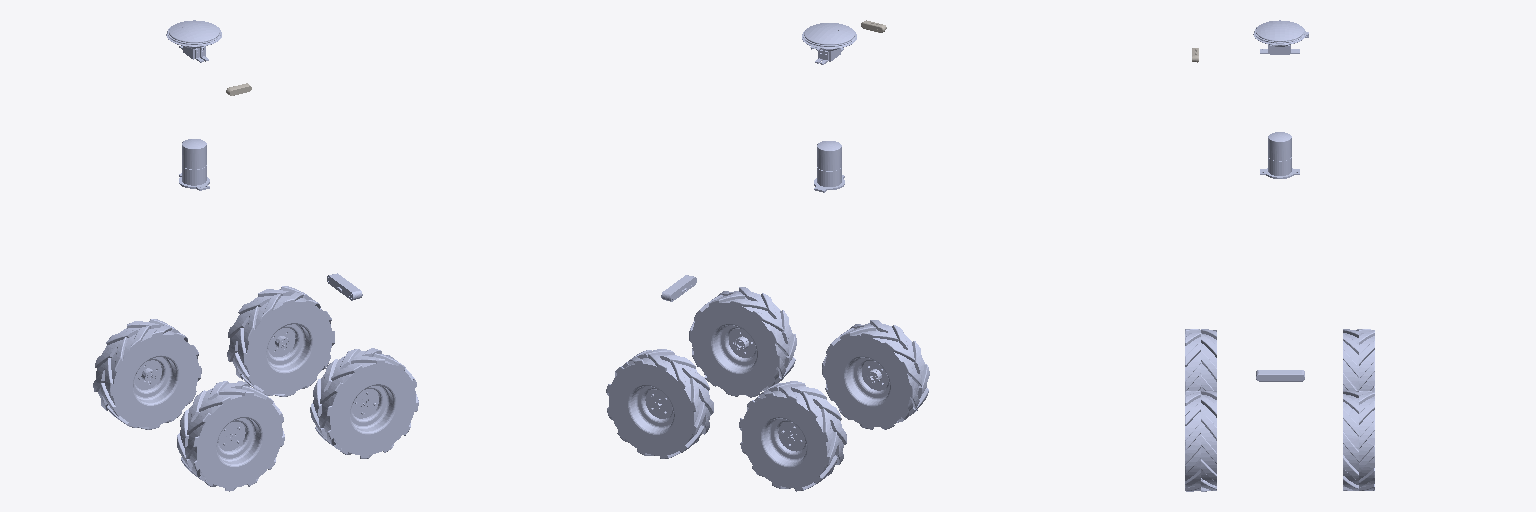
URDF robot description (smartagurdf):
<?xml version="1.0" encoding="utf-8"?>
<!-- This URDF was automatically created by SolidWorks to URDF Exporter! Originally created by [author] ([email redacted]) 
     Commit Version: 1.6.0-4-g7f85cfe  Build Version: 1.6.7995.38578
     For more information, please see http://wiki.ros.org/sw_urdf_exporter -->
<robot
  name="smartagurdf">
  <link
    name="base_link">
    <inertial>
      <origin
        xyz="-0.0356837100936477 0.0222049108481528 0.555812785333456"
        rpy="0 0 0" />
      <mass
        value="14.2103783799551" />
      <inertia
        ixx="0.261483369289071"
        ixy="1.14660712103473E-07"
        ixz="0.00512888335437374"
        iyy="0.288497708920354"
        iyz="1.72257532508572E-06"
        izz="0.359876839369096" />
    </inertial>
    <visual>
      <origin
        xyz="0 0 0"
        rpy="0 0 0" />
      <geometry>
        <mesh
          filename="package://smartagurdf/meshes/base_link.STL" />
      </geometry>
      <material
        name="">
        <color
          rgba="0.101960784313725 0.101960784313725 0.101960784313725 1" />
      </material>
    </visual>
    <collision>
      <origin
        xyz="0 0 0"
        rpy="0 0 0" />
      <geometry>
        <mesh
          filename="package://smartagurdf/meshes/base_link.STL" />
      </geometry>
    </collision>
  </link>
  <link
    name="front_left_wheel_link">
    <inertial>
      <origin
        xyz="-0.286975486815589 -0.259891630565297 0.517241791350882"
        rpy="0 0 0" />
      <mass
        value="14.6529746668918" />
      <inertia
        ixx="2.22361757810627"
        ixy="-0.0642636108120311"
        ixz="0.565870988267871"
        iyy="2.40058188155518"
        iyz="0.0497880957458498"
        izz="0.928157181250363" />
    </inertial>
    <visual>
      <origin
        xyz="0 0 0"
        rpy="0 0 0" />
      <geometry>
        <mesh
          filename="package://smartagurdf/meshes/front_left_wheel_link.STL" />
          <cylinder length="0.1143" radius="0.1651" />
      </geometry>
      <material
        name="">
        <color
          rgba="0.792156862745098 0.819607843137255 0.933333333333333 1" />
      </material>
    </visual>
    <collision>
      <origin
        xyz="0 0 0"
        rpy="0 0 0" />
      <geometry>
        <mesh
          filename="package://smartagurdf/meshes/front_left_wheel_link.STL" />
      </geometry>
    </collision>
  </link>
  <joint
    name="front_left_wheel"
    type="continuous">
    <origin
      xyz="0.256 0.28547 0.036"
      rpy="0 0 0" />
    <parent
      link="base_link" />
    <child
      link="front_left_wheel_link" />
    <axis
      xyz="0 1 0" />
    <limit
      lower="0"
      upper="0"
      effort="1000"
      velocity="10" />
  </joint>
  <link
    name="front_right_wheel_link">
    <inertial>
      <origin
        xyz="-0.286975486815589 0.311057619434703 0.517241791350882"
        rpy="0 0 0" />
      <mass
        value="14.6529746668918" />
      <inertia
        ixx="2.22361757810627"
        ixy="-0.0642636108120311"
        ixz="0.565870988267871"
        iyy="2.40058188155518"
        iyz="0.0497880957458499"
        izz="0.928157181250363" />
    </inertial>
    <visual>
      <origin
        xyz="0 0 0"
        rpy="0 0 0" />
      <geometry>
        <mesh
          filename="package://smartagurdf/meshes/front_right_wheel_link.STL" />
      </geometry>
      <material
        name="">
        <color
          rgba="0.792156862745098 0.819607843137255 0.933333333333333 1" />
      </material>
    </visual>
    <collision>
      <origin
        xyz="0 0 0"
        rpy="0 0 0" />
      <geometry>
        <mesh
          filename="package://smartagurdf/meshes/front_right_wheel_link.STL" />
      </geometry>
    </collision>
  </link>
  <joint
    name="front_right_wheel"
    type="continuous">
    <origin
      xyz="0.256 -0.28548 0.036"
      rpy="0 0 0" />
    <parent
      link="base_link" />
    <child
      link="front_right_wheel_link" />
    <axis
      xyz="0 1 0" />
    <limit
      lower="0"
      upper="0"
      effort="1000"
      velocity="10" />
  </joint>
  <link
    name="rear_right_wheel_link">
    <inertial>
      <origin
        xyz="0.225024513184411 0.311057619434703 0.517241791350882"
        rpy="0 0 0" />
      <mass
        value="14.6529746668918" />
      <inertia
        ixx="2.22361757810627"
        ixy="-0.0642636108120311"
        ixz="0.565870988267871"
        iyy="2.40058188155518"
        iyz="0.0497880957458498"
        izz="0.928157181250363" />
    </inertial>
    <visual>
      <origin
        xyz="0 0 0"
        rpy="0 0 0" />
      <geometry>
        <mesh
          filename="package://smartagurdf/meshes/rear_right_wheel_link.STL" />
      </geometry>
      <material
        name="">
        <color
          rgba="0.792156862745098 0.819607843137255 0.933333333333333 1" />
      </material>
    </visual>
    <collision>
      <origin
        xyz="0 0 0"
        rpy="0 0 0" />
      <geometry>
        <mesh
          filename="package://smartagurdf/meshes/rear_right_wheel_link.STL" />
      </geometry>
    </collision>
  </link>
  <joint
    name="rear_right_wheel"
    type="continuous">
    <origin
      xyz="-0.256 -0.28548 0.036"
      rpy="0 0 0" />
    <parent
      link="base_link" />
    <child
      link="rear_right_wheel_link" />
    <axis
      xyz="0 1 0" />
    <limit
      lower="0"
      upper="0"
      effort="1000"
      velocity="10" />
  </joint>
  <link
    name="rear_left_wheel_link">
    <inertial>
      <origin
        xyz="0.225024513184411 -0.259891630565297 0.517241791350882"
        rpy="0 0 0" />
      <mass
        value="14.6529746668918" />
      <inertia
        ixx="2.22361757810627"
        ixy="-0.0642636108120311"
        ixz="0.565870988267871"
        iyy="2.40058188155518"
        iyz="0.0497880957458499"
        izz="0.928157181250363" />
    </inertial>
    <visual>
      <origin
        xyz="0 0 0"
        rpy="0 0 0" />
      <geometry>
        <mesh
          filename="package://smartagurdf/meshes/rear_left_wheel_link.STL" />
      </geometry>
      <material
        name="">
        <color
          rgba="0.792156862745098 0.819607843137255 0.933333333333333 1" />
      </material>
    </visual>
    <collision>
      <origin
        xyz="0 0 0"
        rpy="0 0 0" />
      <geometry>
        <mesh
          filename="package://smartagurdf/meshes/rear_left_wheel_link.STL" />
      </geometry>
    </collision>
  </link>
  <joint
    name="rear_left_wheel"
    type="continuous">
    <origin
      xyz="-0.256 0.28547 0.036"
      rpy="0 0 0" />
    <parent
      link="base_link" />
    <child
      link="rear_left_wheel_link" />
    <axis
      xyz="0 1 0" />
    <limit
      lower="0"
      upper="0"
      effort="1000"
      velocity="10" />
  </joint>
  <link
    name="zed_link">
    <inertial>
      <origin
        xyz="0.00456159896851871 9.12690621725221E-07 0.01494133462499"
        rpy="0 0 0" />
      <mass
        value="0.167694642835059" />
      <inertia
        ixx="0.000382830412066939"
        ixy="3.28189191039499E-09"
        ixz="-6.45241842886214E-08"
        iyy="3.24806894733886E-05"
        iyz="1.3857903167337E-09"
        izz="0.000390523047546263" />
    </inertial>
    <visual>
      <origin
        xyz="0 0 0"
        rpy="0 0 0" />
      <geometry>
        <mesh
          filename="package://smartagurdf/meshes/zed_link.STL" />
      </geometry>
      <material
        name="">
        <color
          rgba="0.792156862745098 0.819607843137255 0.933333333333333 1" />
      </material>
    </visual>
    <collision>
      <origin
        xyz="0 0 0"
        rpy="0 0 0" />
      <geometry>
        <mesh
          filename="package://smartagurdf/meshes/zed_link.STL" />
      </geometry>
    </collision>
  </link>
  <joint
    name="zed_joint"
    type="fixed">
    <origin
      xyz="0.33638 0.002 0.314"
      rpy="0 0 0" />
    <parent
      link="base_link" />
    <child
      link="zed_link" />
    <axis
      xyz="0 0 0" />
  </joint>
  <link
    name="lidar_link">
    <inertial>
      <origin
        xyz="5.89805981832114E-16 3.2612801348364E-16 -0.0330286093572053"
        rpy="0 0 0" />
      <mass
        value="0.786253823219787" />
      <inertia
        ixx="0.00151021720928138"
        ixy="1.01041962373767E-20"
        ixz="5.76279958654395E-19"
        iyy="0.00147697392396542"
        iyz="3.00989440945545E-19"
        izz="0.000720422174010713" />
    </inertial>
    <visual>
      <origin
        xyz="0 0 0"
        rpy="0 0 0" />
      <geometry>
        <mesh
          filename="package://smartagurdf/meshes/lidar_link.STL" />
      </geometry>
      <material
        name="">
        <color
          rgba="0.792156862745098 0.819607843137255 0.933333333333333 1" />
      </material>
    </visual>
    <collision>
      <origin
        xyz="0 0 0"
        rpy="0 0 0" />
      <geometry>
        <mesh
          filename="package://smartagurdf/meshes/lidar_link.STL" />
      </geometry>
    </collision>
  </link>
  <joint
    name="lidar_joint"
    type="fixed">
    <origin
      xyz="-0.2365 0 0.95016"
      rpy="0 0 0" />
    <parent
      link="base_link" />
    <child
      link="lidar_link" />
    <axis
      xyz="0 0 0" />
  </joint>
  <link
    name="realsense_link">
    <inertial>
      <origin
        xyz="0.00152014055144201 -3.9057648565724E-07 0.010451758070197"
        rpy="0 0 0" />
      <mass
        value="0.0482013986778756" />
      <inertia
        ixx="2.73914552639321E-05"
        ixy="-4.25989861960233E-07"
        ixz="7.54924661317732E-09"
        iyy="3.35061188385816E-06"
        iyz="2.11610683923973E-09"
        izz="2.66521455070172E-05" />
    </inertial>
    <visual>
      <origin
        xyz="0 0 0"
        rpy="0 0 0" />
      <geometry>
        <mesh
          filename="package://smartagurdf/meshes/realsense_link.STL" />
      </geometry>
      <material
        name="">
        <color
          rgba="0.776470588235294 0.756862745098039 0.737254901960784 1" />
      </material>
    </visual>
    <collision>
      <origin
        xyz="0 0 0"
        rpy="0 0 0" />
      <geometry>
        <mesh
          filename="package://smartagurdf/meshes/realsense_link.STL" />
      </geometry>
    </collision>
  </link>
  <joint
    name="realsense_joint"
    type="fixed">
    <origin
      xyz="-0.23621 -0.29546 1.2957"
      rpy="0 0 -1.5708" />
    <parent
      link="base_link" />
    <child
      link="realsense_link" />
    <axis
      xyz="0 0 0" />
  </joint>
  <link
    name="gps_antenna_link">
    <inertial>
      <origin
        xyz="4.97017328424457E-06 0.000210055548435083 -0.00458781110719353"
        rpy="0 0 0" />
      <mass
        value="1.02990079135601" />
      <inertia
        ixx="0.00161521332509735"
        ixy="1.58573213761098E-08"
        ixz="-7.30355818025241E-09"
        iyy="0.00157973941386838"
        iyz="2.70465167932831E-06"
        izz="0.00284354572566057" />
    </inertial>
    <visual>
      <origin
        xyz="0 0 0"
        rpy="0 0 0" />
      <geometry>
        <mesh
          filename="package://smartagurdf/meshes/gps_antenna_link.STL" />
      </geometry>
      <material
        name="">
        <color
          rgba="0.792156862745098 0.819607843137255 0.933333333333333 1" />
      </material>
    </visual>
    <collision>
      <origin
        xyz="0 0 0"
        rpy="0 0 0" />
      <geometry>
        <mesh
          filename="package://smartagurdf/meshes/gps_antenna_link.STL" />
      </geometry>
    </collision>
  </link>
  <joint
    name="gps_antenna_joint"
    type="fixed">
    <origin
      xyz="-0.23658 -0.0006 1.3862"
      rpy="0 0 0" />
    <parent
      link="base_link" />
    <child
      link="gps_antenna_link" />
    <axis
      xyz="0 0 0" />
  </joint>
</robot>

--- Facts derived from the render (not from the file) ---
Views: 3 orthographic renders of the robot side by side, from view 1: azimuth 30°, elevation 25°; view 2: azimuth 150°, elevation 25°; view 3: azimuth 270°, elevation 25°.
Model smartagurdf with 9 links and 8 joints (4 continuous, 4 fixed), rooted at base_link, posed every joint at zero.
Visible links, largest first — view 1: rear_left_wheel_link, front_right_wheel_link, rear_right_wheel_link, front_left_wheel_link, gps_antenna_link, lidar_link; view 2: front_left_wheel_link, rear_right_wheel_link, rear_left_wheel_link, front_right_wheel_link, gps_antenna_link, lidar_link; view 3: front_right_wheel_link, front_left_wheel_link, rear_right_wheel_link, rear_left_wheel_link, gps_antenna_link, lidar_link, zed_link.
Link boxes in pixels (bbox=[...]): rear_left_wheel_link: bbox=[93, 319, 201, 429]; front_right_wheel_link: bbox=[310, 348, 418, 458]; rear_right_wheel_link: bbox=[177, 381, 284, 491]; front_left_wheel_link: bbox=[227, 286, 334, 396]; gps_antenna_link: bbox=[166, 20, 221, 62]; lidar_link: bbox=[179, 139, 209, 190]; front_left_wheel_link: bbox=[606, 349, 713, 458]; rear_right_wheel_link: bbox=[822, 320, 929, 429]; rear_left_wheel_link: bbox=[739, 381, 846, 491]; front_right_wheel_link: bbox=[689, 287, 796, 397]; gps_antenna_link: bbox=[802, 23, 856, 64]; lidar_link: bbox=[814, 141, 844, 192]; front_right_wheel_link: bbox=[1185, 391, 1216, 491]; front_left_wheel_link: bbox=[1343, 391, 1374, 490]; rear_right_wheel_link: bbox=[1185, 329, 1216, 391]; rear_left_wheel_link: bbox=[1343, 329, 1374, 390]; gps_antenna_link: bbox=[1253, 20, 1308, 54]; lidar_link: bbox=[1260, 132, 1299, 178]; zed_link: bbox=[1256, 370, 1304, 381].
Bounding box of the posed robot: 0.8676 × 0.6694 × 1.56 m (x, y, z).
Meshes: 9 distinct files referenced, 8 mesh visuals loaded (8 binary STL); not drawn: 1 (reference not matched to a file when rendering).